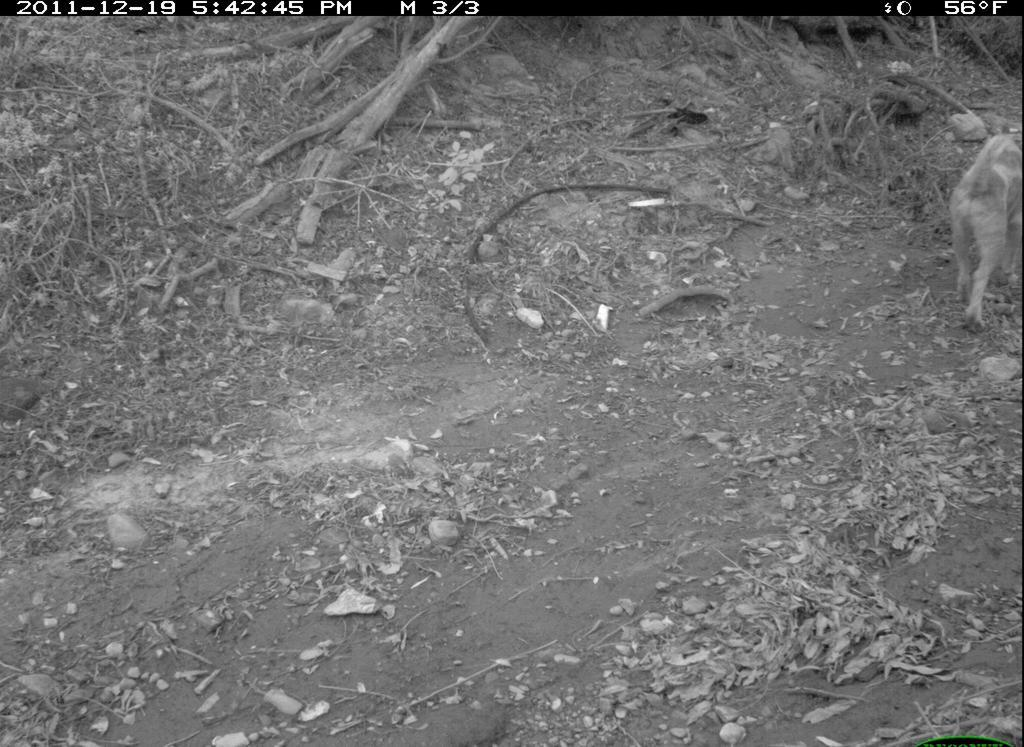dog: (937, 122, 1023, 335)
